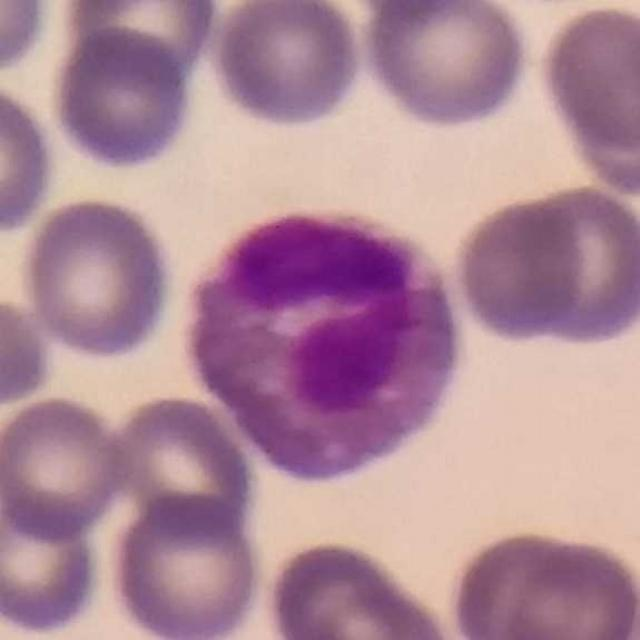Eosinophil: (169, 199, 470, 490)
RBC: (17, 192, 178, 363), (104, 489, 266, 640), (99, 391, 259, 543), (358, 0, 536, 134), (47, 23, 200, 175), (260, 533, 470, 640), (208, 0, 366, 134), (0, 392, 136, 542), (534, 0, 640, 185), (530, 181, 640, 352), (456, 195, 579, 342), (0, 493, 106, 639), (513, 521, 640, 640), (55, 0, 224, 85), (448, 534, 582, 640), (0, 77, 60, 238), (0, 291, 56, 418), (0, 0, 56, 79), (339, 0, 481, 23)
